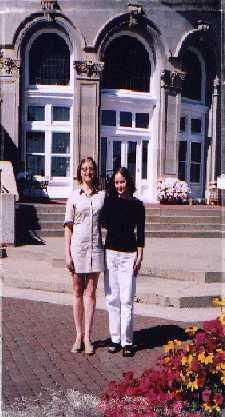head: (79, 157, 97, 184), (112, 170, 130, 197)
person: (63, 152, 105, 360), (100, 166, 143, 353)
